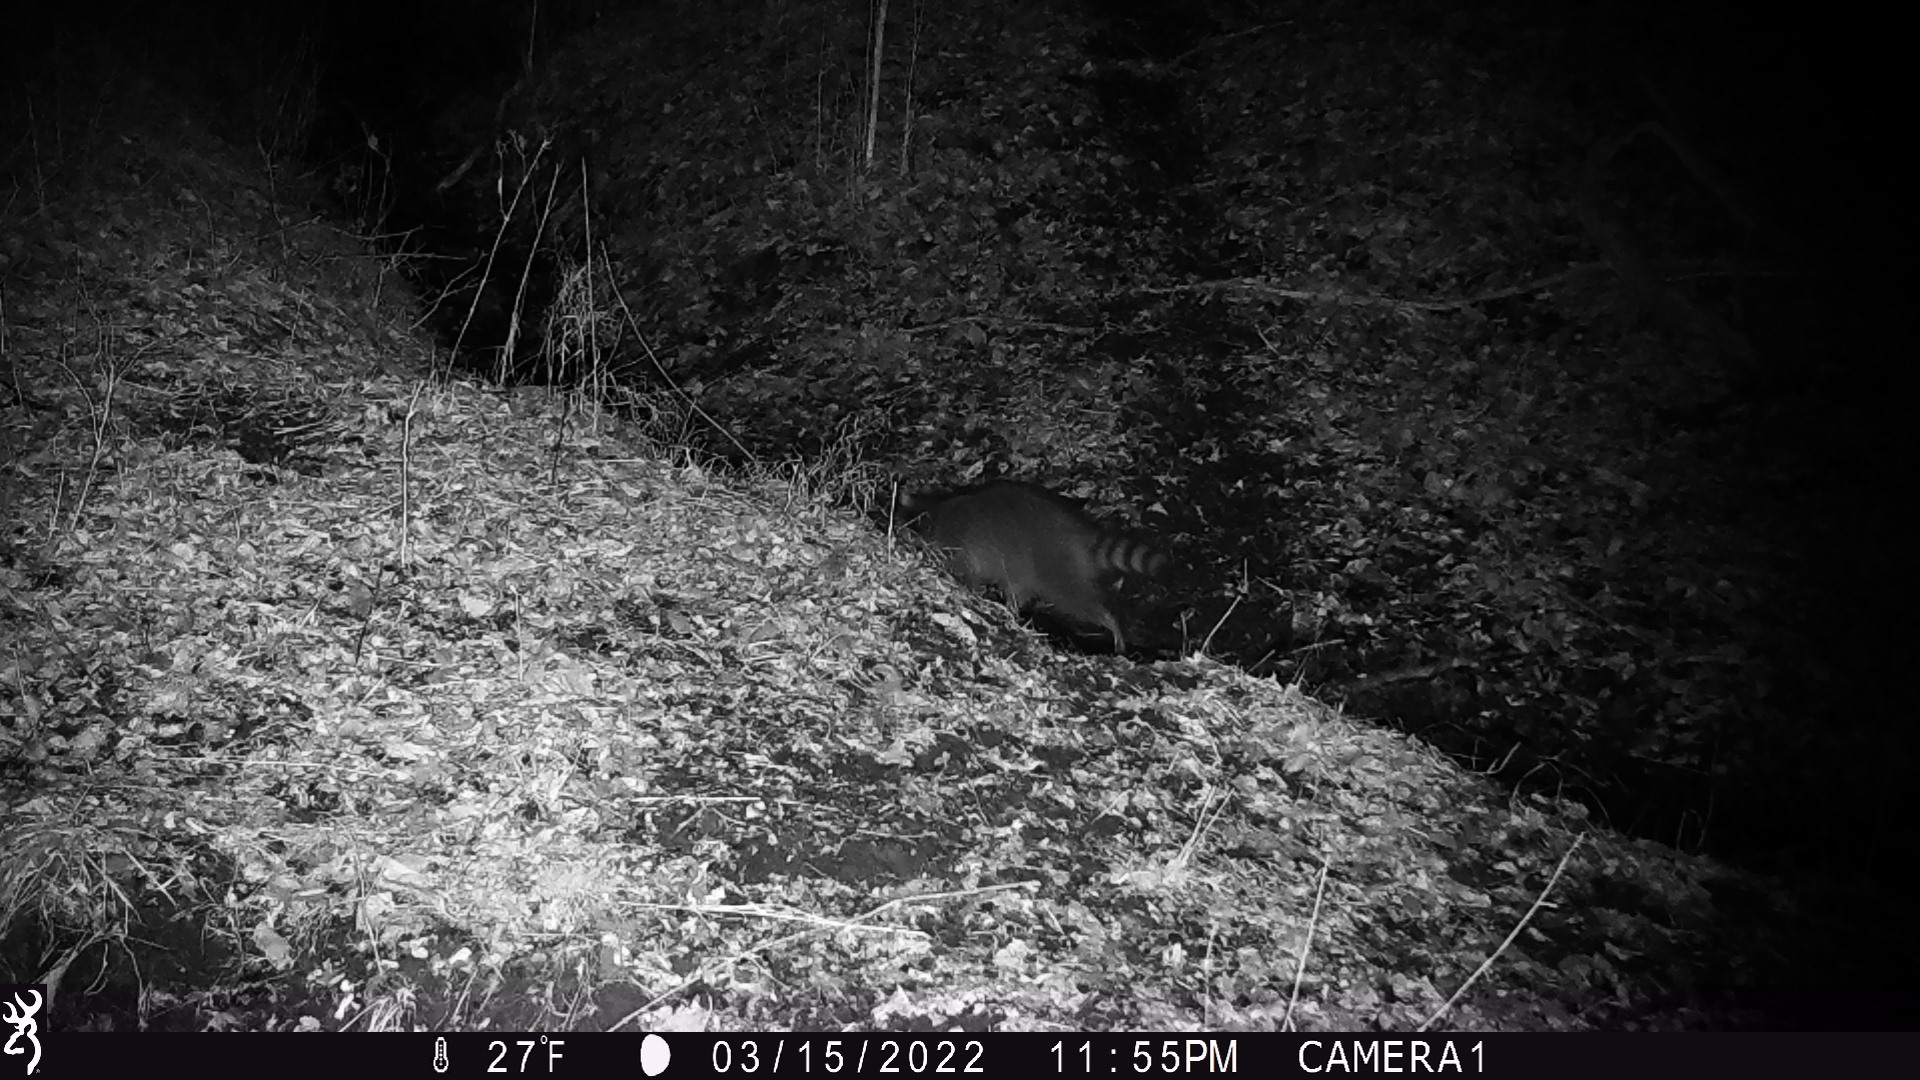Raccoon: (895, 477, 1172, 638)
